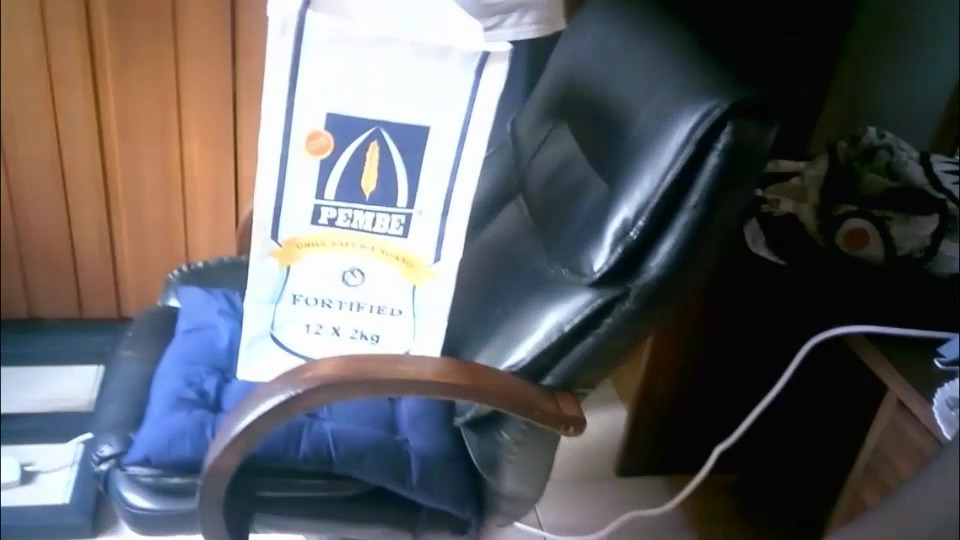wheat_flour_blue_label: (235, 26, 464, 365)
